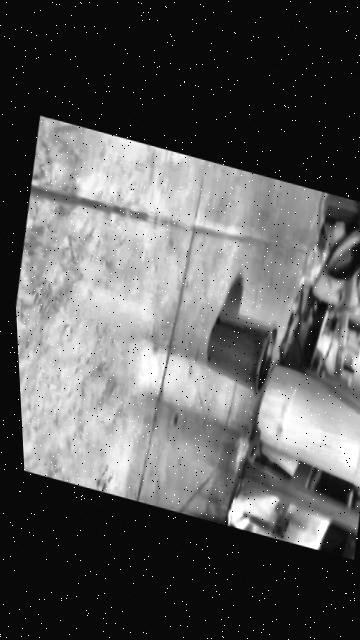pot: (200, 306, 280, 398)
